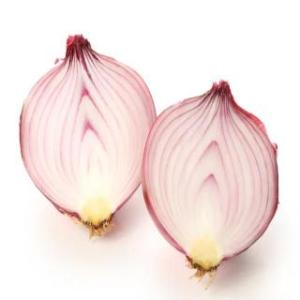onion: (16, 33, 160, 235), (140, 78, 280, 274)
